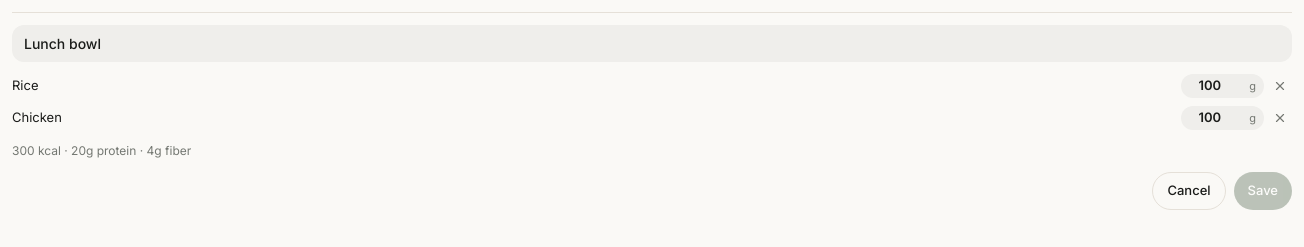
Test: MyMealEditor › shows an inline error on name_taken
Step 1. Replace the text in the field named "Meal name" with "Dup" → (652, 44), box top-left (12, 25), bottom-right (1292, 62)
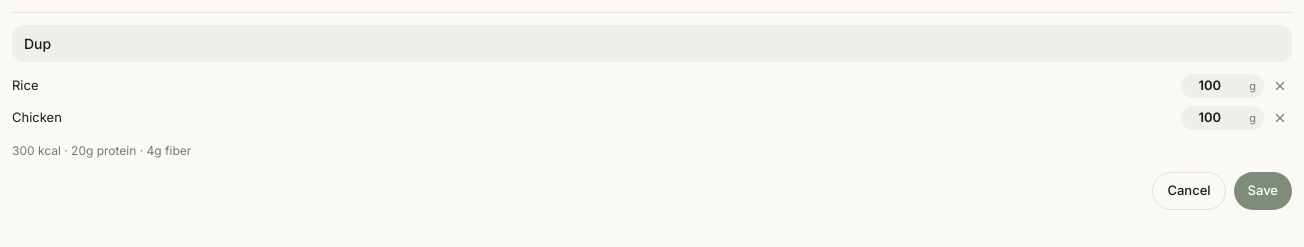
Step 2. Click the button "Save" → (1263, 191), box top-left (1234, 172), bottom-right (1292, 210)
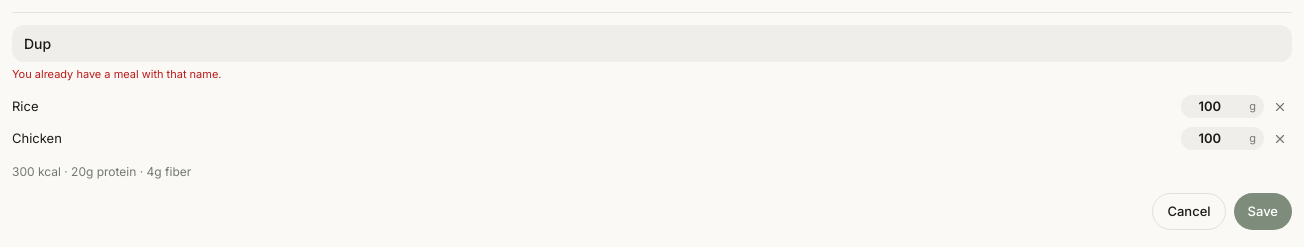
Expected: the text "You already have a meal with that name." is shown, top-left (12, 67), bottom-right (222, 81)
